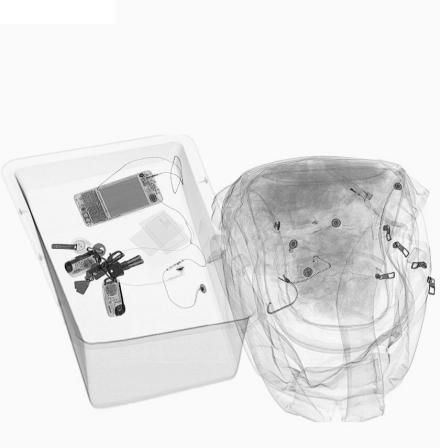Lighter: (329, 172, 375, 204)
